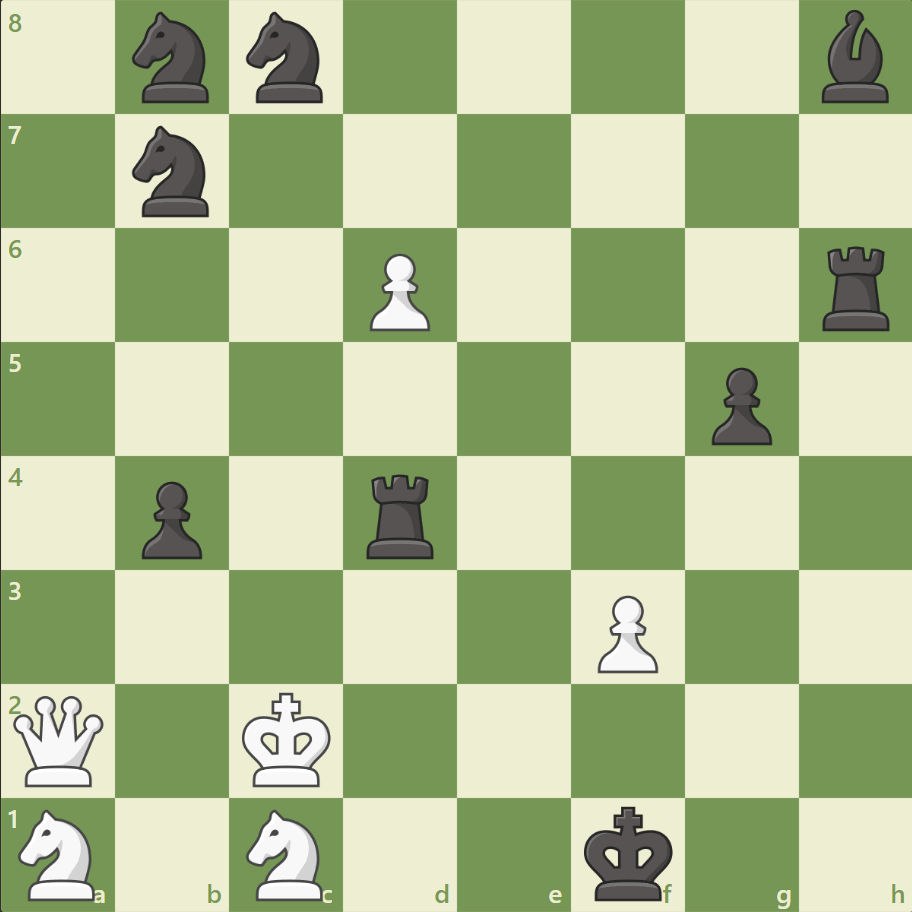K: (238, 685, 338, 793)
N: (11, 802, 108, 904), (238, 802, 335, 904)
P: (361, 246, 435, 337), (588, 586, 662, 677)
Q: (10, 690, 109, 789)
b: (812, 6, 896, 109)
k: (579, 798, 679, 906)
n: (124, 7, 222, 110), (124, 121, 222, 223), (238, 7, 335, 110)
p: (701, 359, 776, 450), (133, 473, 208, 564)
r: (814, 239, 897, 336), (360, 466, 442, 563)
